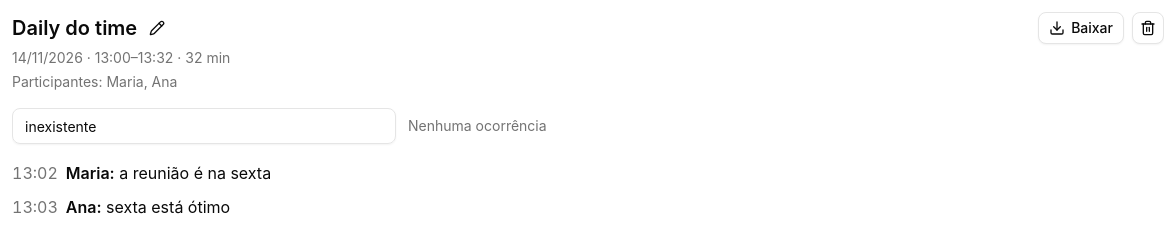
Test: MeetingDetail › busca sem resultado
Check: the text "Nenhuma ocorrência" is shown, box [408, 116, 547, 136]
Clear the field named "Buscar nesta reunião" at (204, 126), box [12, 108, 396, 144]
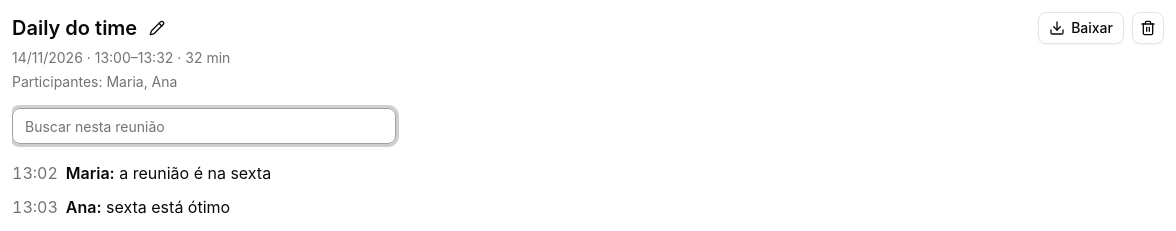
Check: the text "Nenhuma ocorrência" is gone
